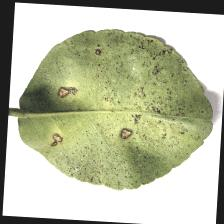canker: (97, 43, 181, 147)
